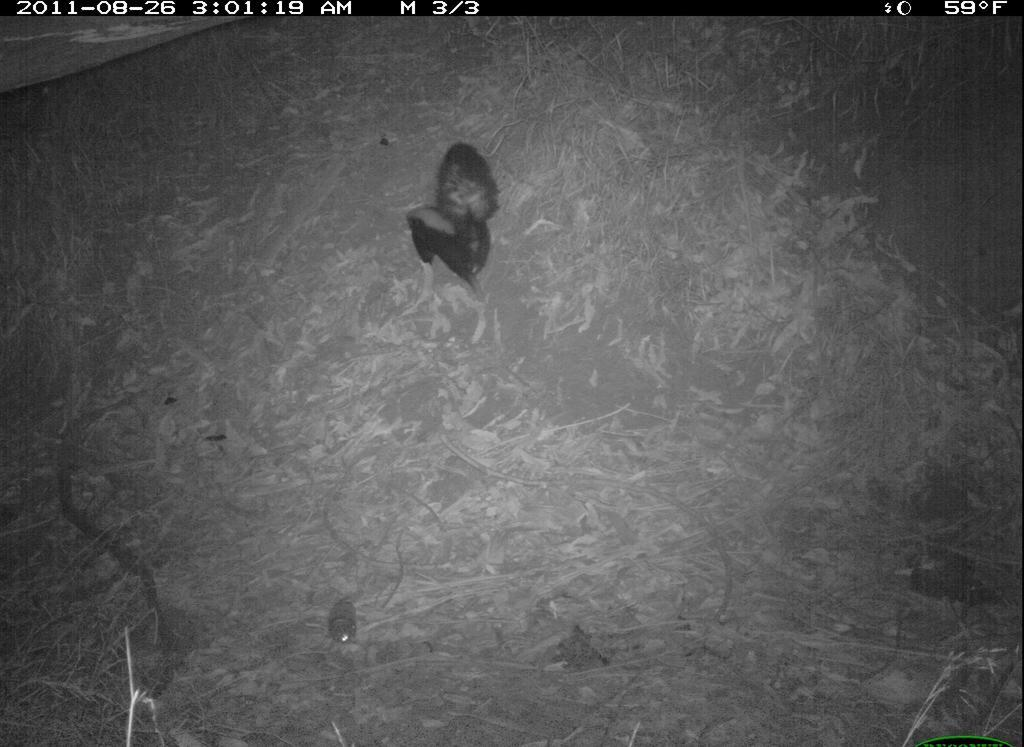skunk: (395, 122, 520, 304)
